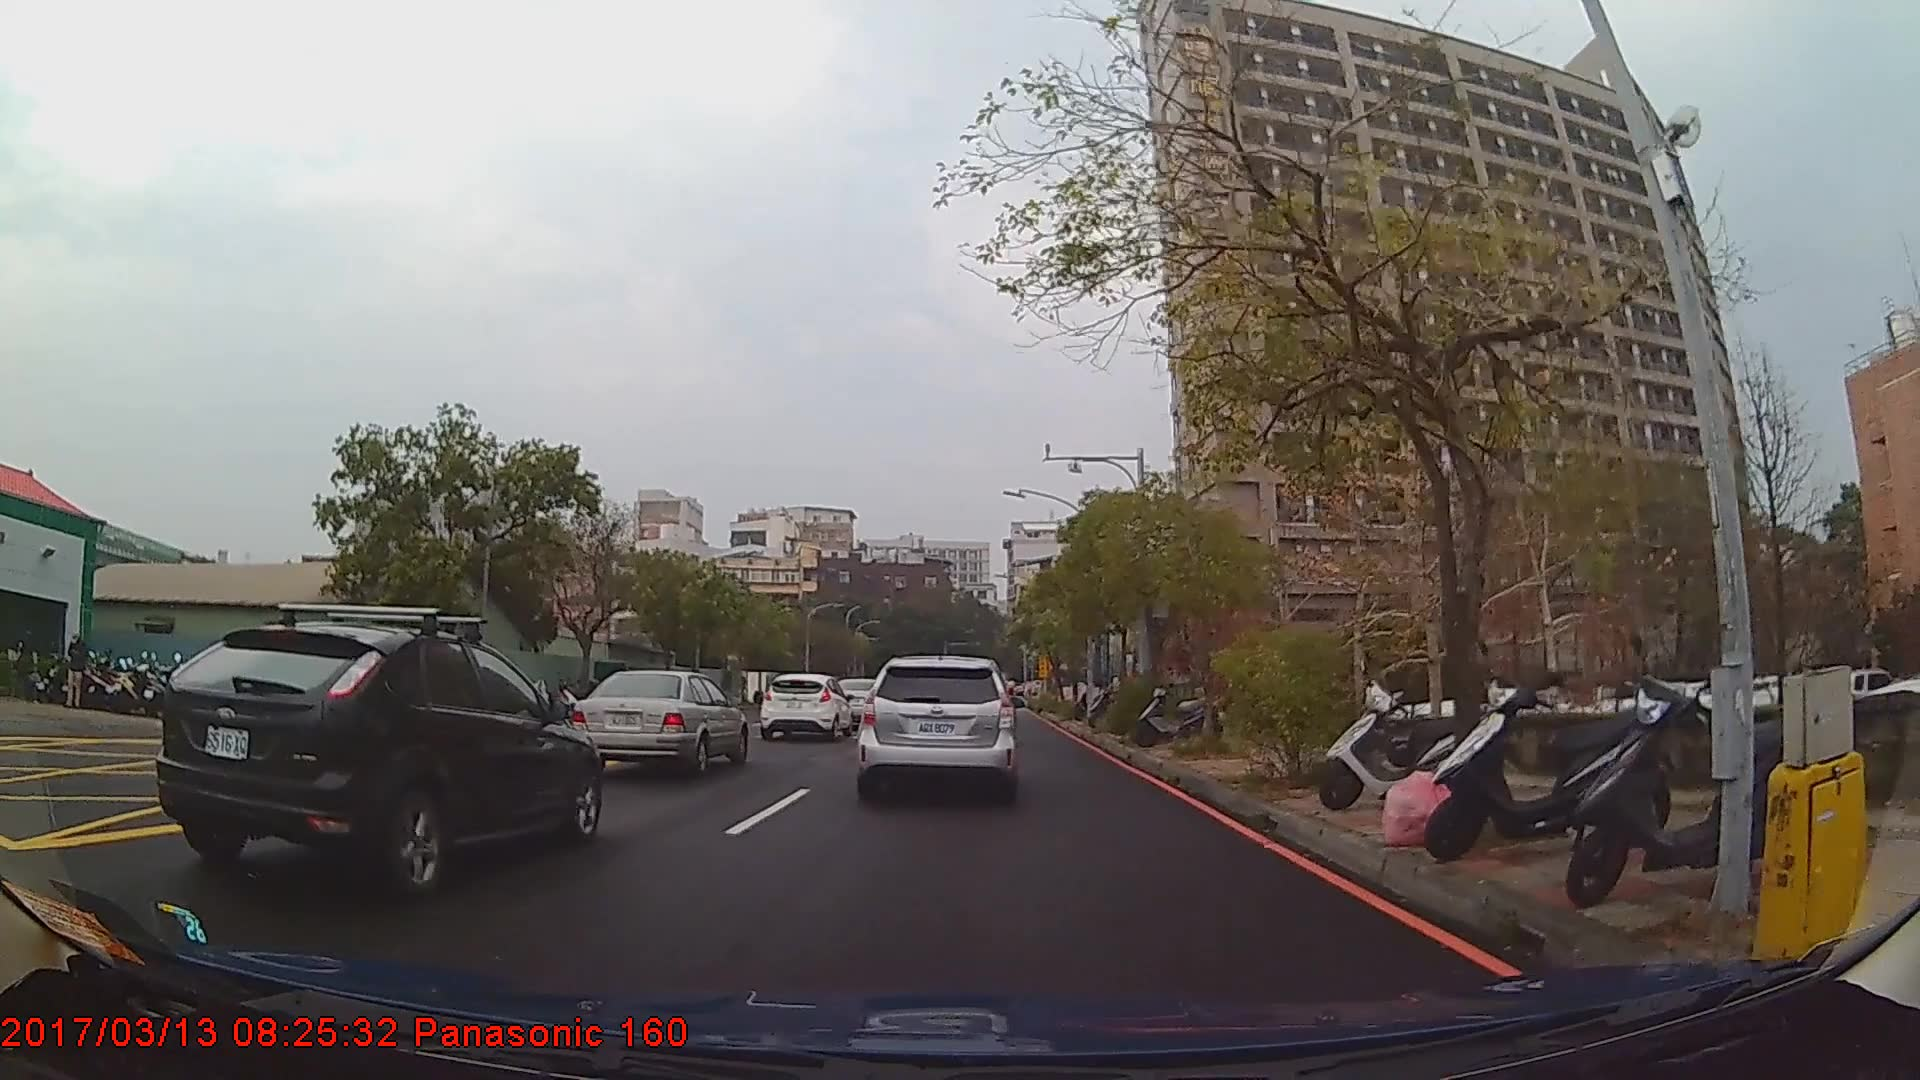pedestrian: (65, 633, 90, 711)
vehicle: (155, 621, 602, 891), (856, 652, 1015, 802), (565, 668, 748, 774), (759, 671, 855, 743)
